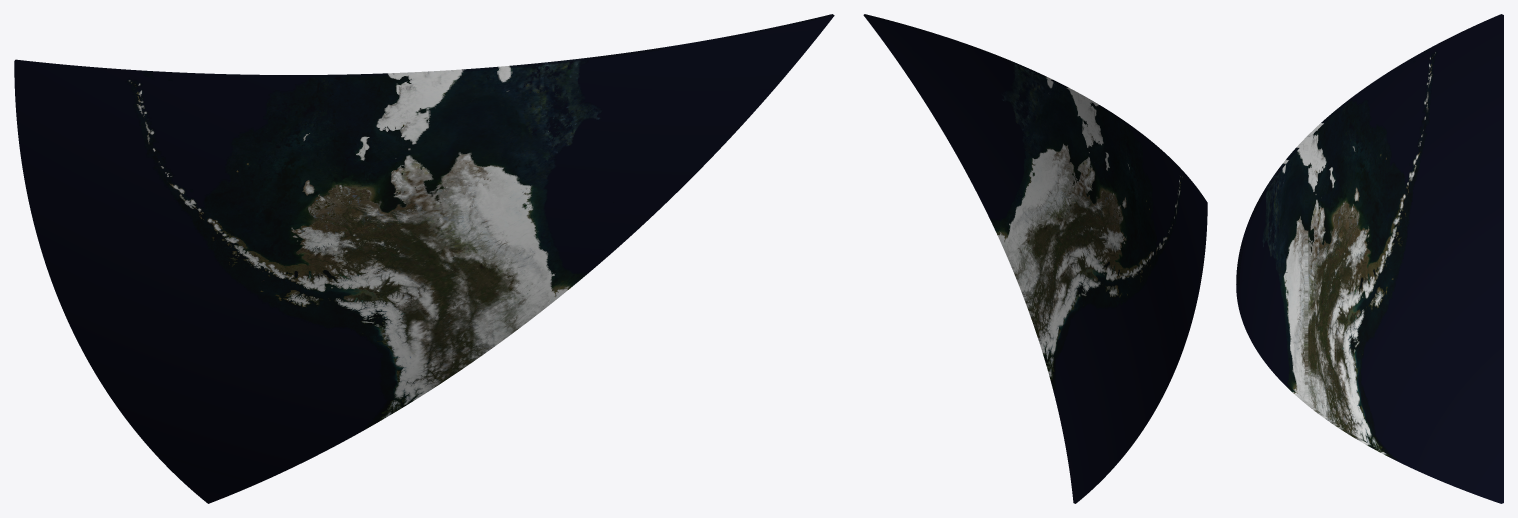
The picture shows the model from 3 angles, left to right: view 1: azimuth 30°, elevation 25°; view 2: azimuth 150°, elevation 25°; view 3: azimuth 270°, elevation 25°; orthographic projection. The views are drawn at different scales.
Visible parts, largest first — view 1: DefaultName.007, DefaultName.005, DefaultName.001, DefaultName.003; view 2: DefaultName.005, DefaultName.007, DefaultName.003, DefaultName.001; view 3: DefaultName.005, DefaultName.007, DefaultName.001, DefaultName.003.
Part boxes in pixels (x1=…): DefaultName.007: x1=14, y1=59, x2=461, y2=313; DefaultName.005: x1=65, y1=210, x2=539, y2=503; DefaultName.001: x1=434, y1=14, x2=834, y2=209; DefaultName.003: x1=462, y1=16, x2=833, y2=312; DefaultName.005: x1=1007, y1=187, x2=1172, y2=503; DefaultName.007: x1=1060, y1=94, x2=1207, y2=374; DefaultName.003: x1=863, y1=15, x2=1060, y2=257; DefaultName.001: x1=864, y1=14, x2=1080, y2=185; DefaultName.005: x1=1305, y1=257, x2=1503, y2=503; DefaultName.007: x1=1305, y1=14, x2=1503, y2=269; DefaultName.001: x1=1236, y1=138, x2=1308, y2=284; DefaultName.003: x1=1236, y1=269, x2=1308, y2=403.
Size of the model in its own units: 45176 by 31944 by 18870.
Materials: 4 (4 with a texture image).
